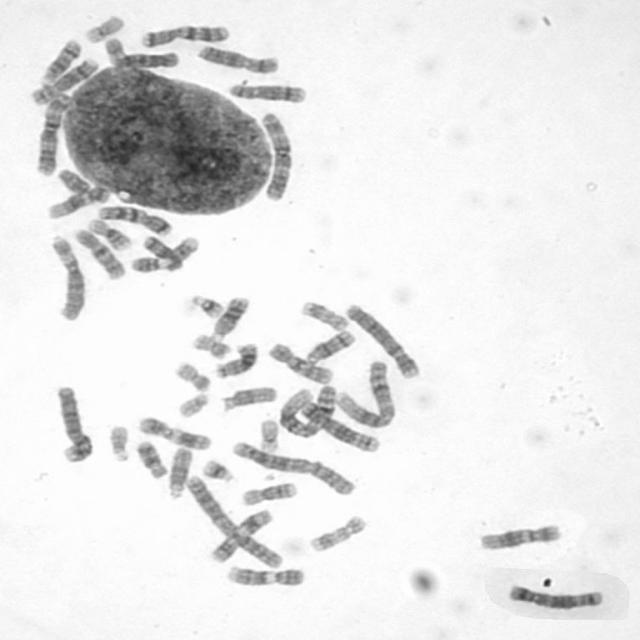A1: (331, 354, 397, 429), (272, 379, 340, 438)
A2: (179, 468, 286, 570), (225, 434, 359, 496)
A3: (30, 88, 74, 177), (255, 106, 296, 201)
B4: (340, 298, 422, 380), (48, 379, 95, 464)
B5: (295, 395, 382, 453), (502, 578, 606, 610)
C10: (68, 222, 128, 281), (263, 336, 335, 385)
C11: (205, 504, 276, 564), (132, 410, 214, 451)
C12: (474, 518, 564, 552), (41, 180, 111, 220)
C6: (44, 230, 88, 322), (99, 32, 182, 70)
C7: (93, 200, 174, 237), (135, 19, 232, 47)
C8: (25, 52, 101, 106), (222, 76, 310, 105)
C9: (125, 230, 202, 274), (220, 560, 307, 588)
D13: (206, 290, 252, 340), (208, 336, 260, 379)
D14: (35, 32, 84, 84), (298, 324, 358, 365)
D15: (215, 380, 280, 412), (162, 442, 194, 499)
E16: (81, 213, 133, 252), (236, 477, 299, 506)
E17: (302, 509, 368, 554), (295, 295, 351, 332)
E18: (130, 435, 170, 479), (52, 163, 92, 196)
F19: (78, 9, 127, 45), (252, 412, 282, 453)
F20: (168, 356, 212, 392), (186, 328, 232, 360)
G21: (184, 288, 226, 320), (196, 453, 237, 482)
G22: (102, 419, 132, 463), (172, 387, 210, 419)
X: (192, 39, 282, 75)
